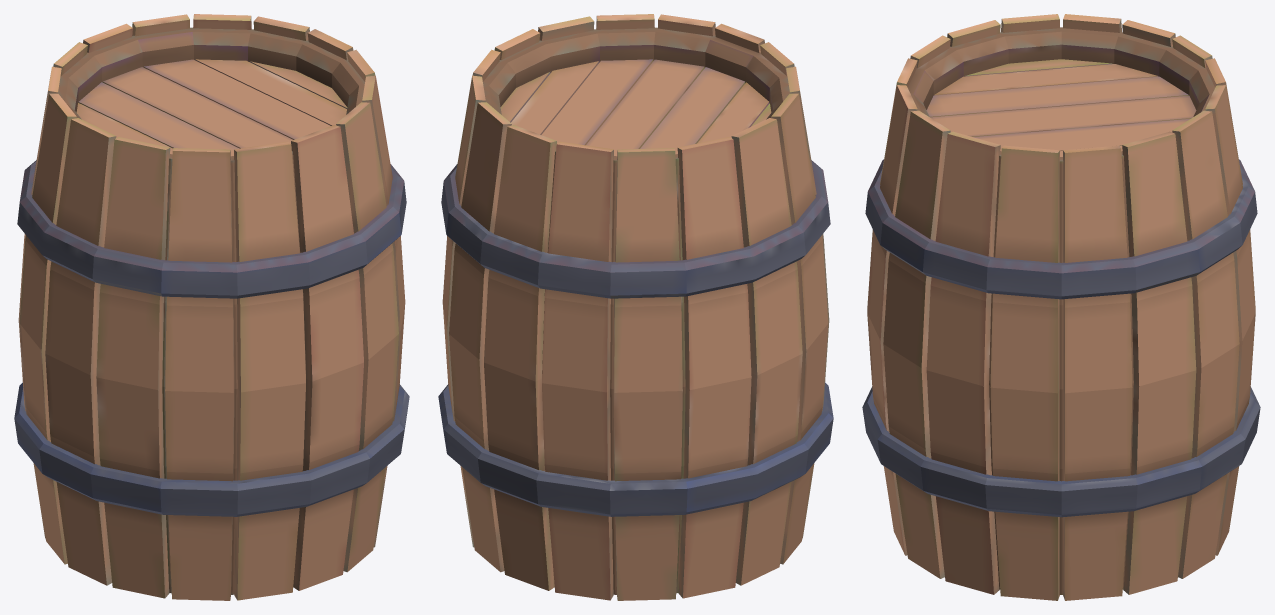
Rendered from Barril 2.fbx.
3 renders of one model, left to right at view 1: azimuth 30°, elevation 25°; view 2: azimuth 150°, elevation 25°; view 3: azimuth 270°, elevation 25°, orthographic.
Visible parts, largest first — view 1: Barril; view 2: Barril; view 3: Barril.
Boxes of the visible parts, x1,y1,x2,y2 form: Barril: (14, 14, 409, 600); Barril: (438, 14, 833, 600); Barril: (862, 14, 1260, 600).
Size of the model in its own units: 89.45 by 111 by 89.45.
Materials: 1 (1 with a texture image).
